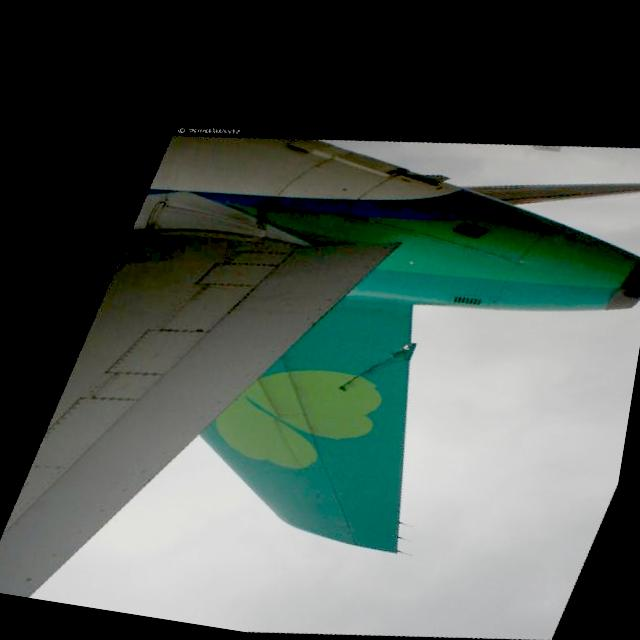crack: (334, 333, 418, 403)
